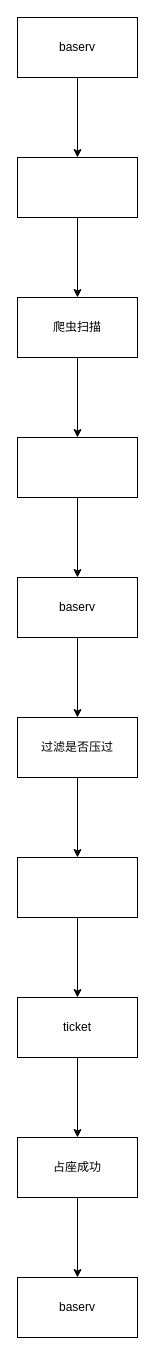
This 155x1355 diagram has some shape labels left out. Each missing label, with the centre of its shape:
"发起占座任务" belongs at point 77,887.
"发送大任务" belongs at point 77,187.
"符合条件" belongs at point 77,467.
